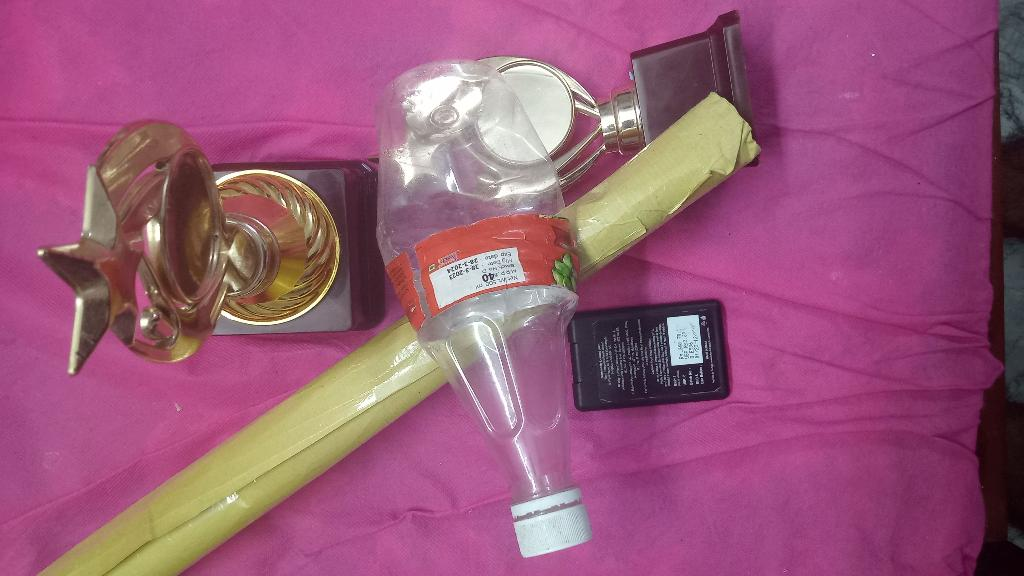garbage: (358, 50, 610, 567)
